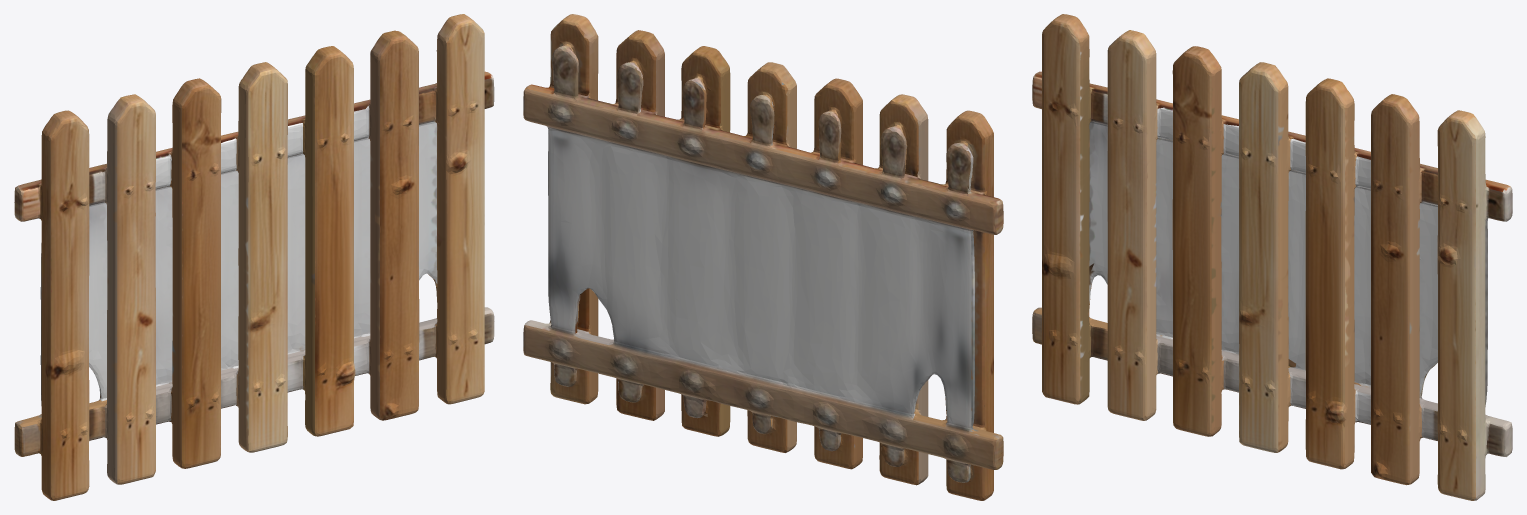
Rendered from mdl_fence_001.glb.
3 views of the same model, side by side, from view 1: azimuth 30°, elevation 25°; view 2: azimuth 150°, elevation 25°; view 3: azimuth 330°, elevation 25° (orthographic).
Visible parts, largest first — view 1: tmpsptxuyma.ply; view 2: tmpsptxuyma.ply; view 3: tmpsptxuyma.ply.
Part boxes in pixels (x1,y1,x2,y2): tmpsptxuyma.ply: (14,14,494,500); tmpsptxuyma.ply: (523,14,1003,500); tmpsptxuyma.ply: (1032,14,1512,500).
Bounding box in the file's own units: 0.9915 × 0.7594 × 0.0846.
1 material, 1 textured.
